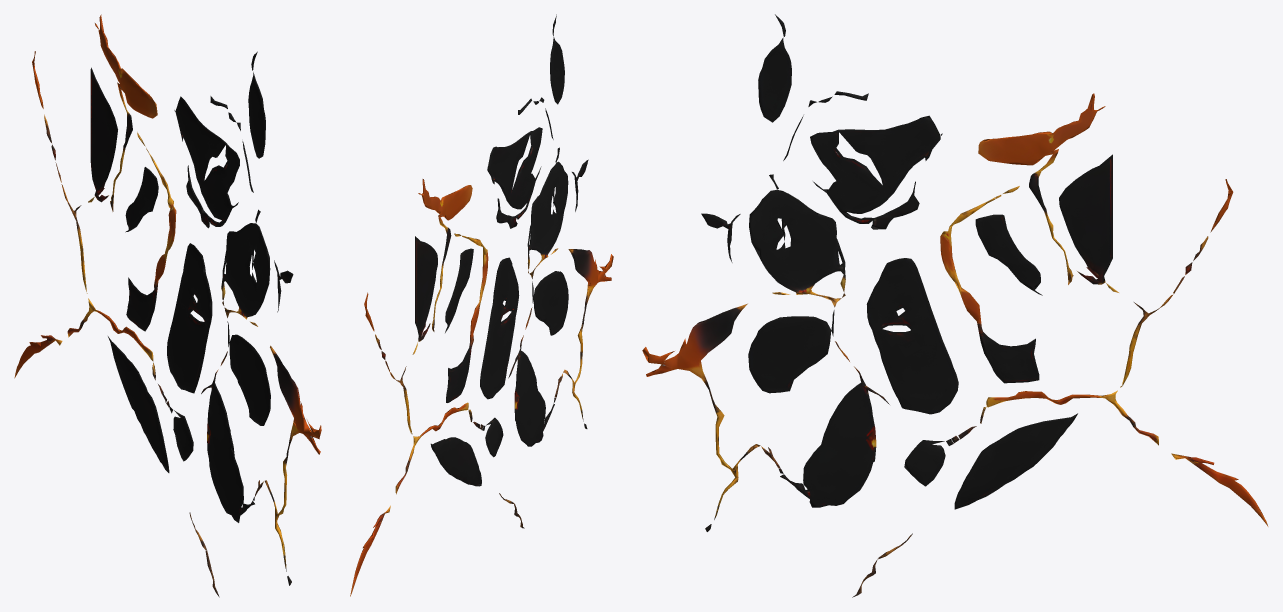
File: lava+cracked+rock+3d+model.obj
The picture shows the model from 3 angles, left to right: view 1: azimuth 30°, elevation 25°; view 2: azimuth 150°, elevation 25°; view 3: azimuth 270°, elevation 25°; orthographic projection. The views are drawn at different scales.
Parts seen in each view (by area): view 1: tripo_node_80612817-3e45-4b33-9752-6e143ee61e76; view 2: tripo_node_80612817-3e45-4b33-9752-6e143ee61e76; view 3: tripo_node_80612817-3e45-4b33-9752-6e143ee61e76.
Part boxes in pixels (x1,y1,x2,y2): tripo_node_80612817-3e45-4b33-9752-6e143ee61e76: [14, 14, 321, 597]; tripo_node_80612817-3e45-4b33-9752-6e143ee61e76: [350, 14, 613, 596]; tripo_node_80612817-3e45-4b33-9752-6e143ee61e76: [642, 14, 1268, 597].
Size of the model in its own units: 0.0104 by 0.9751 by 0.9476.
Materials: 1 (1 with a texture image).
